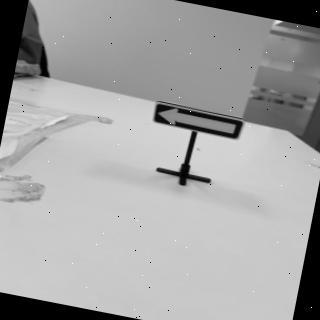sign_oneway_left: (151, 101, 247, 143)
